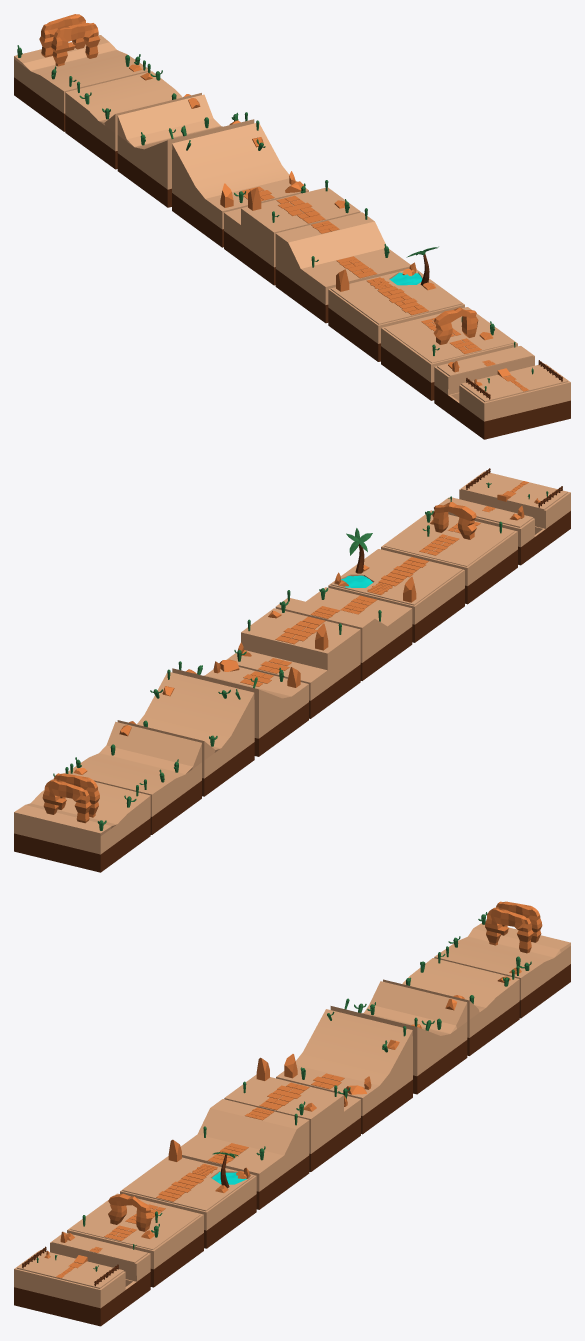
Rendered from Test_pedro.fbx.
3 views of the same model, one above another, from view 1: azimuth 30°, elevation 25°; view 2: azimuth 150°, elevation 25°; view 3: azimuth 330°, elevation 25° (orthographic).
Parts seen in each view (by area): view 1: Tile6, Tile1, Tile4, Tile9, Tile3, Tile2, Tile7, Tile5, Tile8; view 2: Tile9, Tile5, Tile7, Tile8, Tile2, Tile3, Tile1, Tile4, Tile6; view 3: Tile6, Tile1, Tile4, Tile9, Tile3, Tile2, Tile7, Tile5, Tile8.
Boxes of the visible parts, x1,y1,x2,y2 form: Tile6: (172,120,308,247); Tile1: (434,342,570,439); Tile4: (275,208,410,323); Tile9: (14,14,150,131); Tile3: (328,246,464,361); Tile2: (381,307,517,400); Tile7: (117,94,254,207); Tile5: (224,180,360,285); Tile8: (65,63,201,169); Tile9: (14,767,150,872); Tile5: (226,601,360,718); Tile7: (117,669,254,796); Tile8: (68,721,201,834); Tile2: (381,502,517,604); Tile3: (328,528,464,642); Tile1: (434,468,570,565); Tile4: (275,587,412,680); Tile6: (172,659,308,756); Tile6: (276,1009,412,1134); Tile1: (14,1231,150,1326); Tile4: (181,1099,309,1209); Tile9: (434,901,570,1018); Tile3: (120,1139,256,1248); Tile2: (67,1193,203,1287); Tile7: (330,981,467,1094); Tile5: (224,1057,360,1171); Tile8: (383,952,519,1055).
Size of the model in its own units: 1050 by 842 by 9392.
